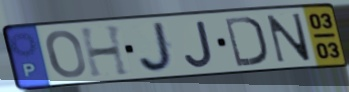D: (222, 14, 269, 68)
H: (77, 23, 133, 80)
J: (137, 20, 178, 75), (182, 19, 216, 70)
N: (265, 11, 313, 65)
O: (43, 28, 88, 80)
